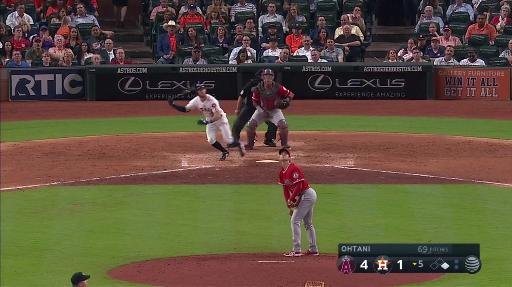pitcher: (276, 147, 324, 258)
